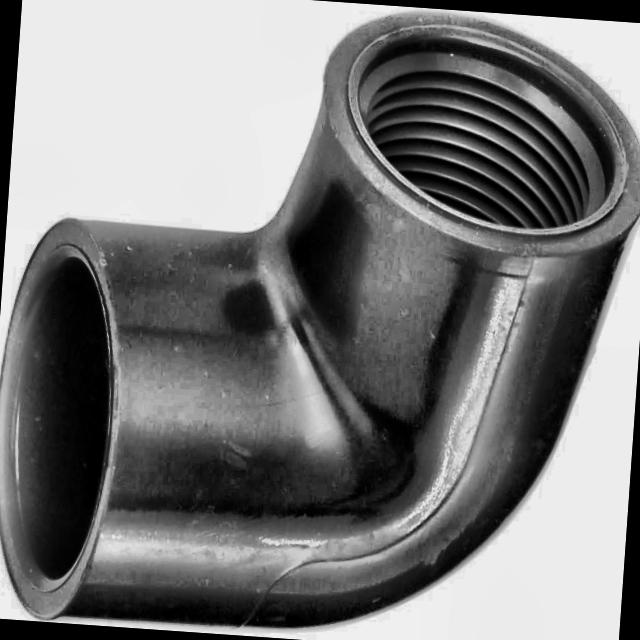ELBOW90: (0, 8, 640, 633)
